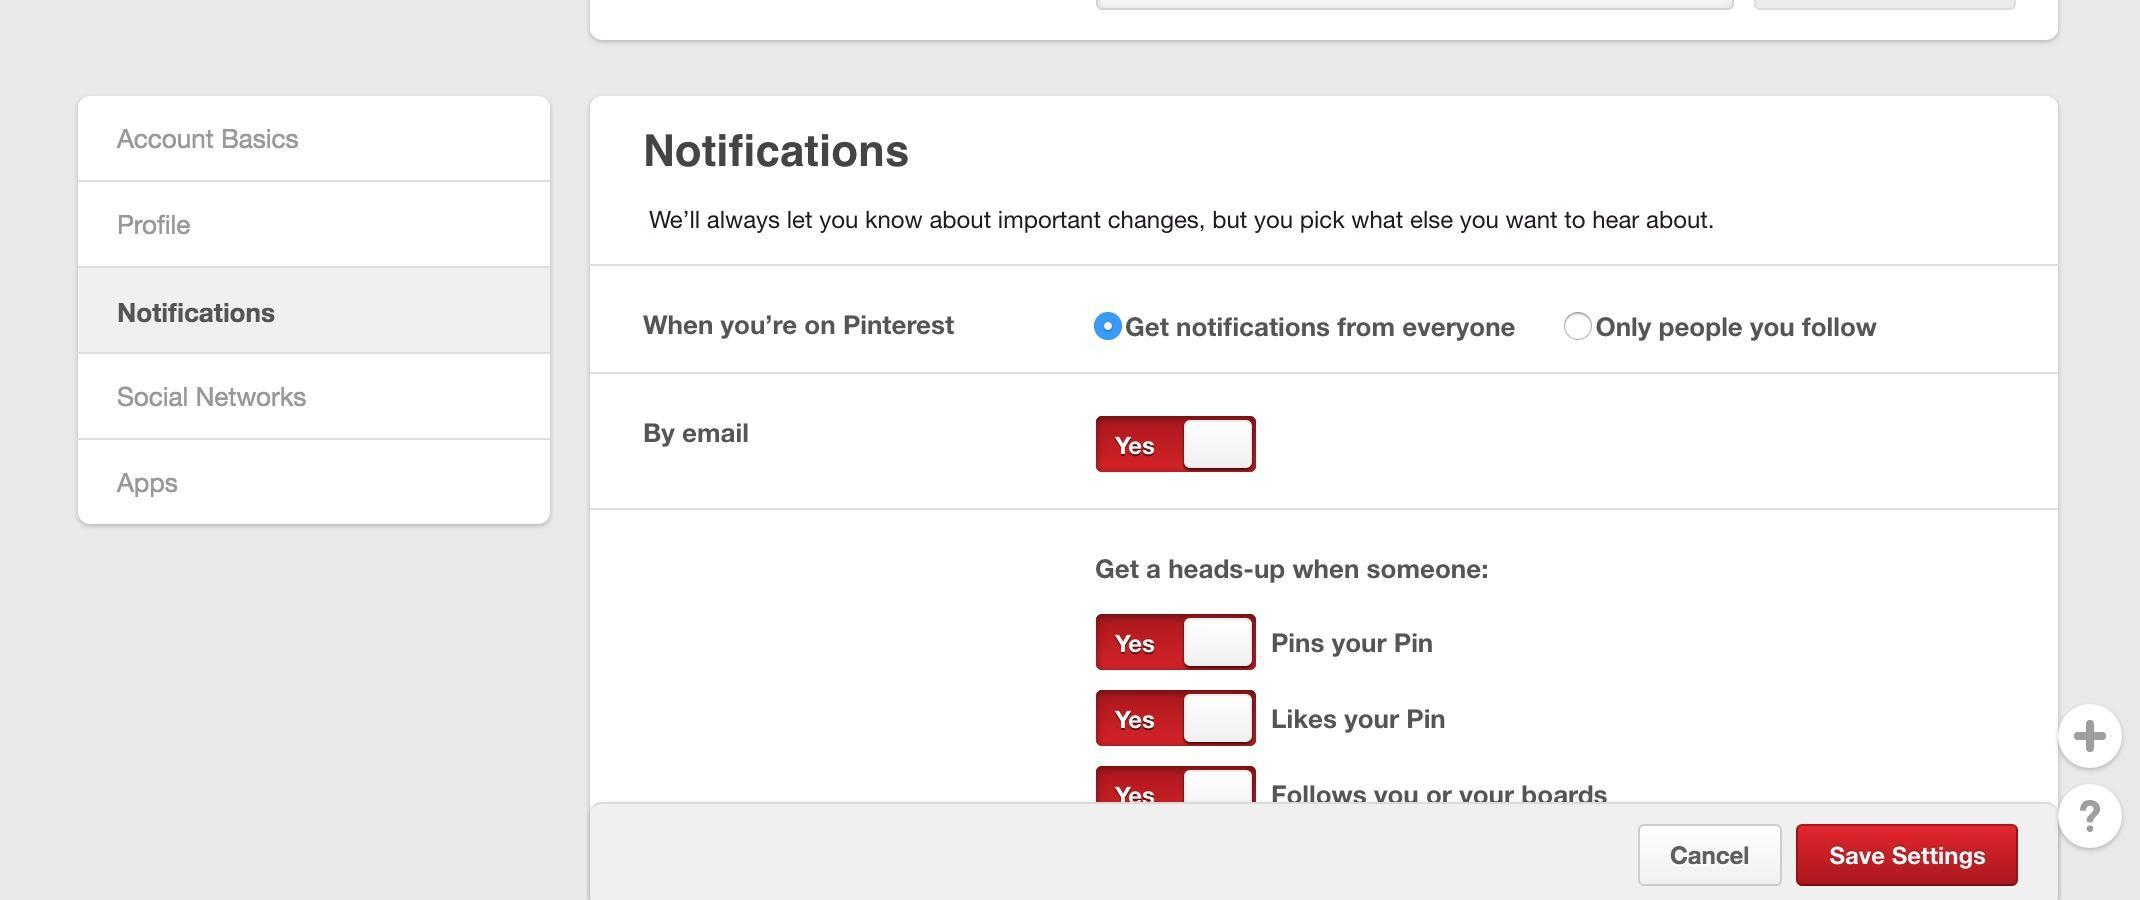button: (76, 268, 550, 352), (1796, 822, 2023, 888), (1640, 829, 1787, 880)
icon: (2059, 706, 2120, 769), (2065, 788, 2115, 845)
label: (1127, 307, 1537, 355), (1272, 768, 1615, 810), (639, 305, 961, 346), (1601, 305, 1885, 350), (1275, 702, 1458, 746), (1264, 624, 1445, 662), (639, 421, 764, 449)
radio: (1563, 310, 1595, 343), (1095, 305, 1123, 341)
switch: (1099, 615, 1258, 675), (1099, 415, 1256, 474), (1095, 691, 1257, 746), (1096, 769, 1257, 807)
